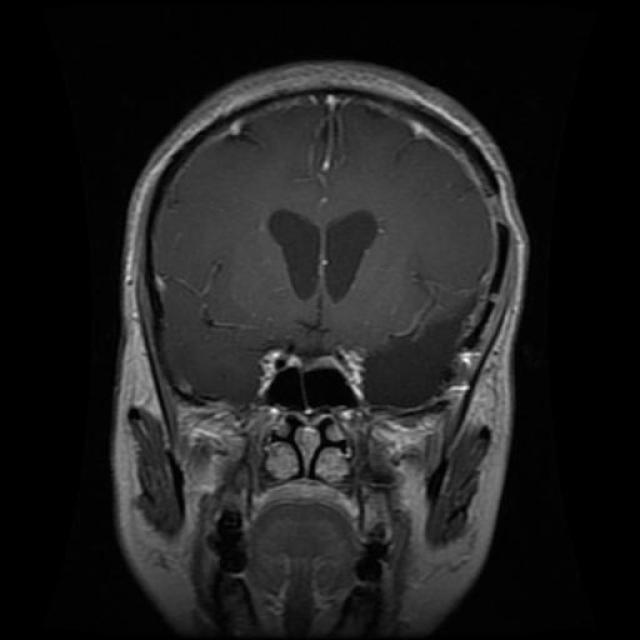glioma: (263, 208, 382, 306)
